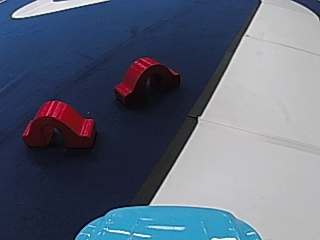bridge: (19, 99, 100, 150), (112, 57, 182, 107)
